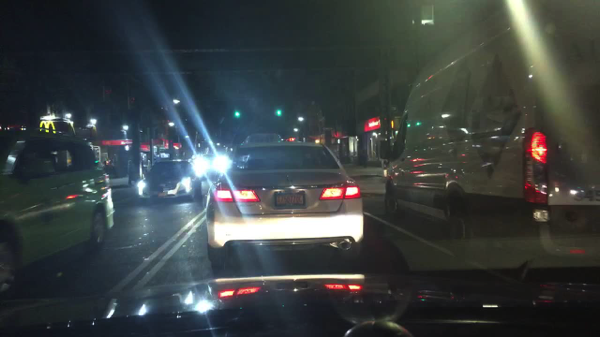car: (382, 2, 599, 261), (0, 125, 115, 299), (207, 139, 362, 267), (135, 160, 200, 204), (188, 154, 228, 180), (240, 132, 281, 143)
person: (127, 157, 133, 187)
traffic light: (388, 119, 400, 132), (314, 134, 325, 146), (233, 111, 241, 119), (276, 109, 281, 119)
